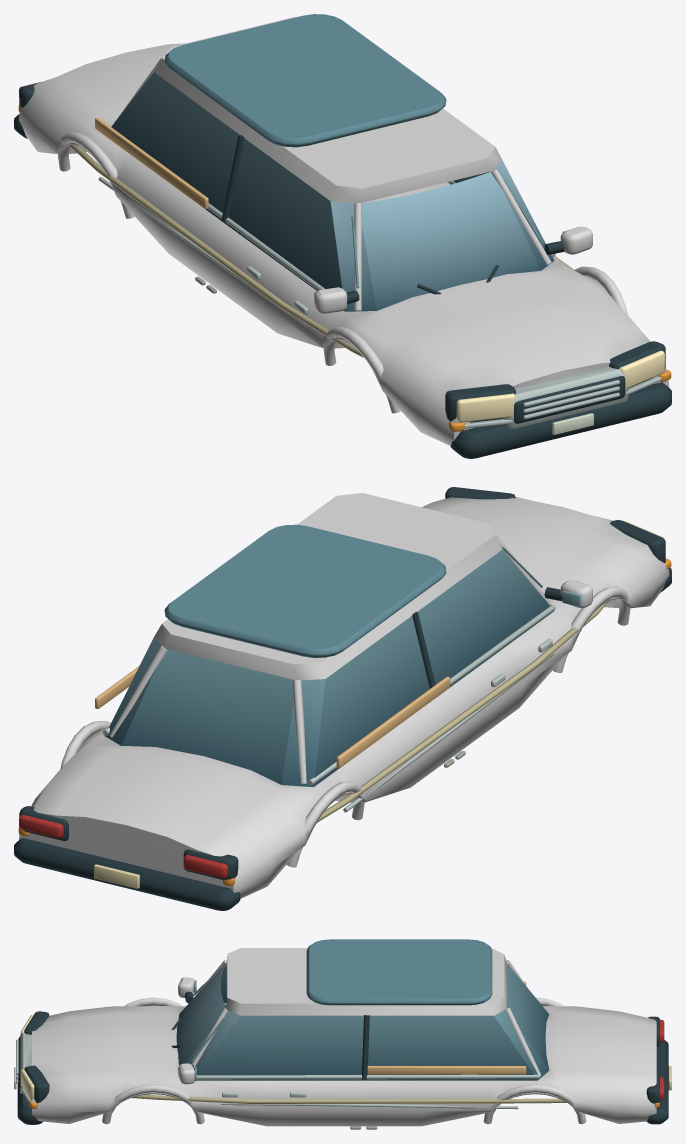
File: lumen.glb
3 views of the same model, one above another, from view 1: azimuth 30°, elevation 25°; view 2: azimuth 150°, elevation 25°; view 3: azimuth 270°, elevation 25° (orthographic). The views are drawn at different scales.
Visible parts, largest first — view 1: Chassis, Headlamps; view 2: Chassis, BrakeLamps; view 3: Chassis, Headlamps.
Boxes of the visible parts, x1,y1,x2,y2 form: Chassis: (14, 14, 671, 458); Headlamps: (456, 350, 664, 422); Chassis: (14, 487, 671, 910); BrakeLamps: (19, 814, 228, 878); Chassis: (14, 939, 671, 1129); Headlamps: (20, 1014, 34, 1100).
Size of the model in its own units: 1.97 by 1.15 by 5.71.
